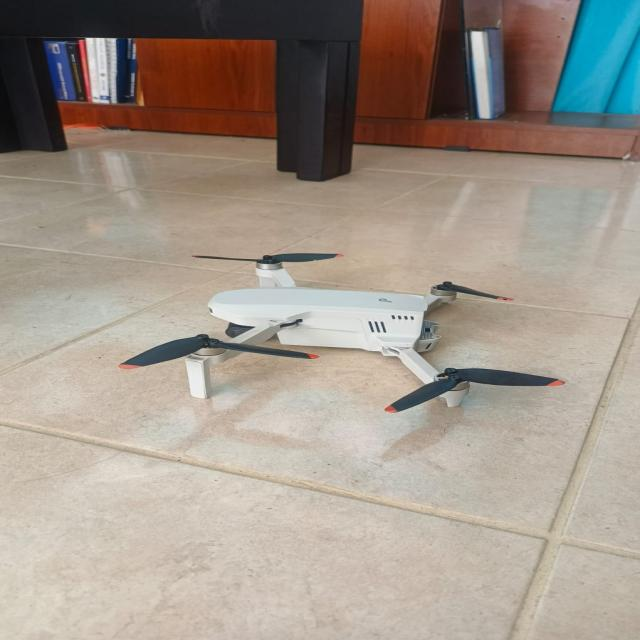dron: (95, 219, 578, 447)
